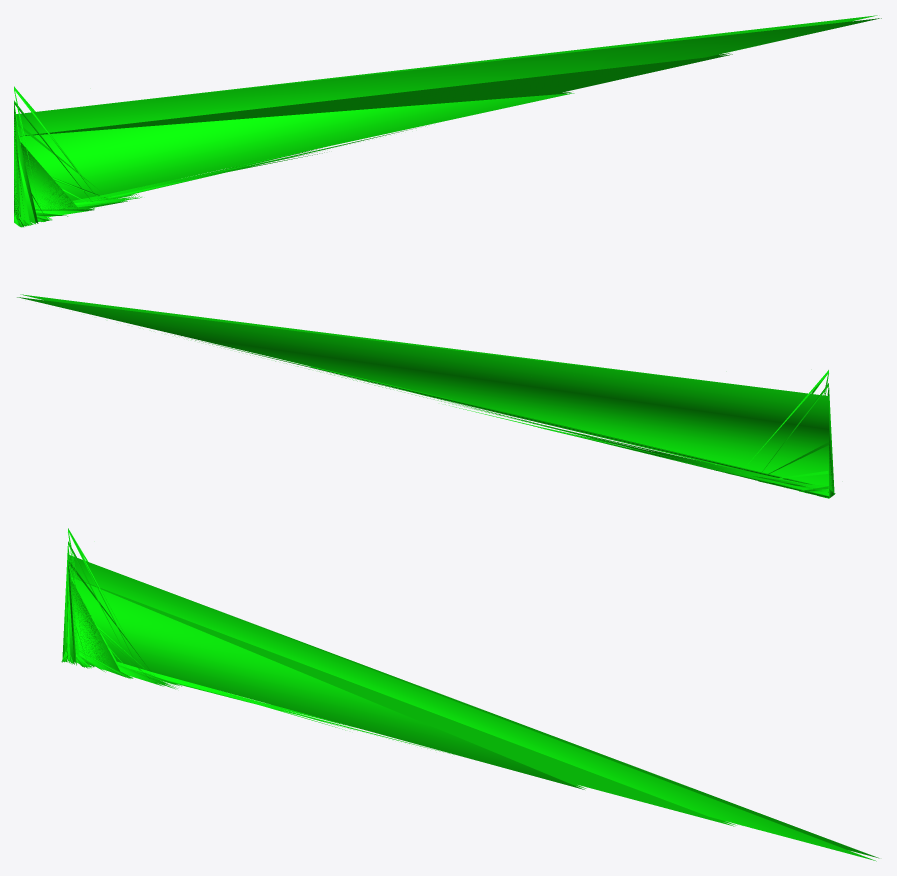
The model's file is LVL2_blockout.fbx.
3 renders of one model, top to bottom at view 1: azimuth 30°, elevation 25°; view 2: azimuth 150°, elevation 25°; view 3: azimuth 330°, elevation 25°, orthographic. The views are drawn at different scales.
Visible parts, largest first — view 1: LVL2_blockout; view 2: LVL2_blockout; view 3: LVL2_blockout.
Boxes of the visible parts, left/top/right/bottom form: LVL2_blockout: left=14, top=15, right=881, bottom=227; LVL2_blockout: left=17, top=294, right=835, bottom=498; LVL2_blockout: left=61, top=528, right=879, bottom=861.
Bounding box in the file's own units: 6516539 × 987997 × 785707.
